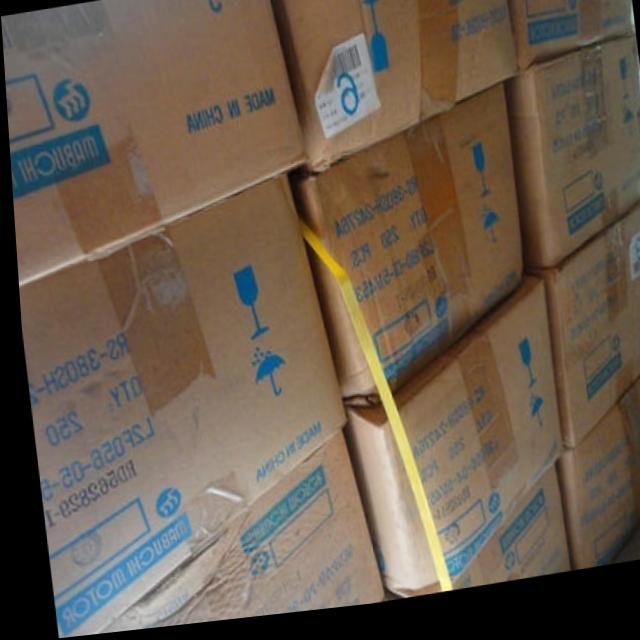box: (15, 178, 376, 638), (1, 0, 304, 286), (286, 96, 523, 415), (337, 284, 561, 605), (271, 0, 517, 182), (502, 48, 640, 283), (520, 208, 640, 458), (548, 381, 640, 580), (441, 473, 564, 598), (505, 0, 633, 82)
